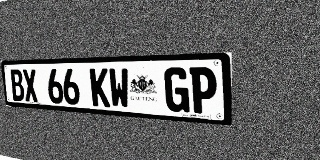6: (61, 69, 80, 105), (46, 69, 64, 104)
B: (9, 69, 25, 101)
G: (164, 67, 190, 113)
K: (90, 68, 110, 107)
P: (190, 67, 217, 115)
W: (108, 68, 130, 109)
X: (22, 69, 39, 102)
